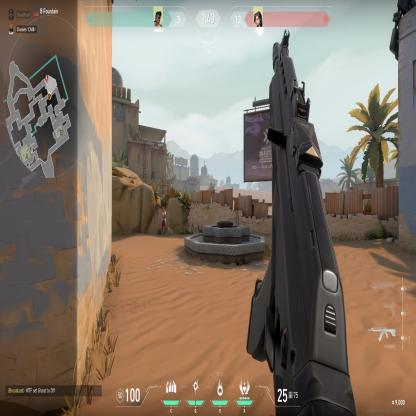enemy: (160, 206, 168, 235)
